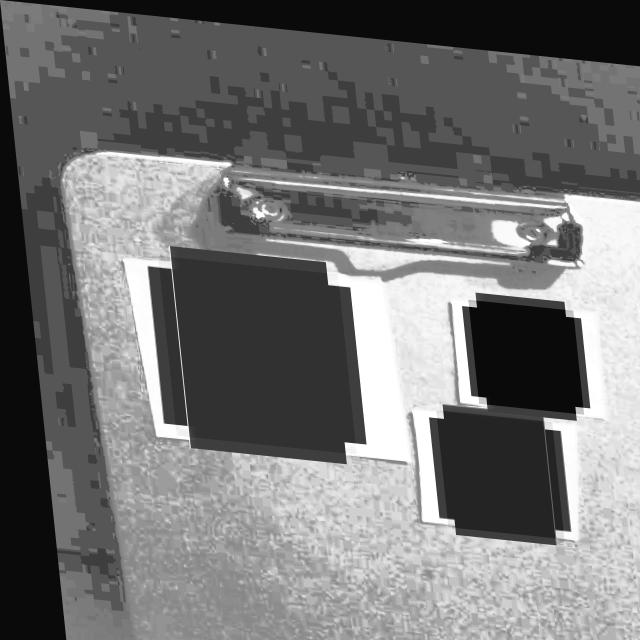qr_code: (153, 253, 347, 448), (428, 401, 554, 528), (463, 290, 576, 403)
